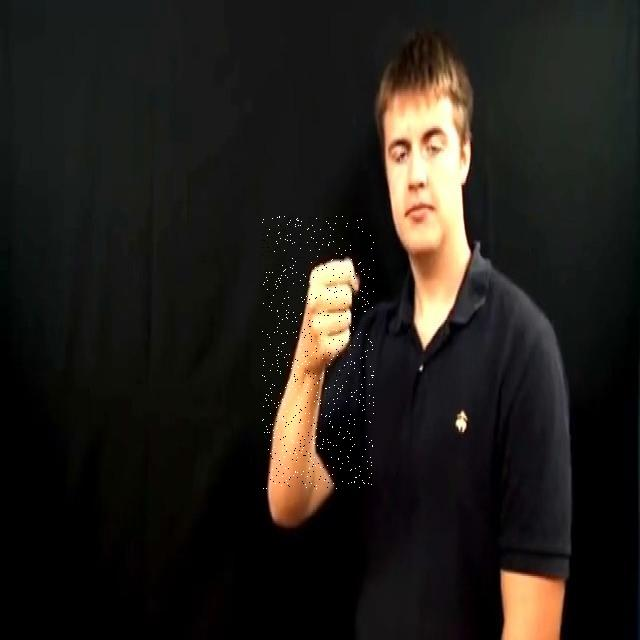milk: (262, 216, 374, 489)
